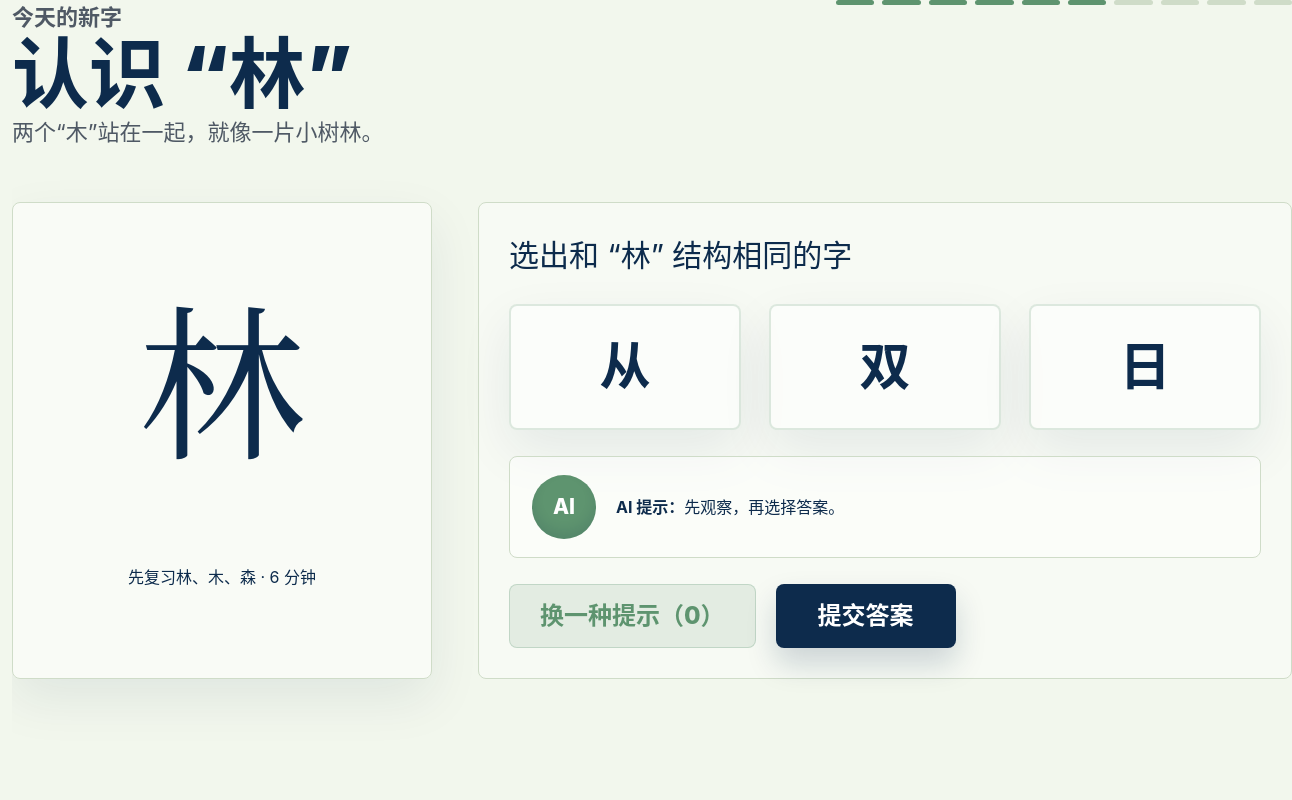
TaskPractice › shows a hint after a wrong literacy answer
This screenshot has width=1292, height=800.
Click the button "从" at (625, 367), box [509,304,741,430]
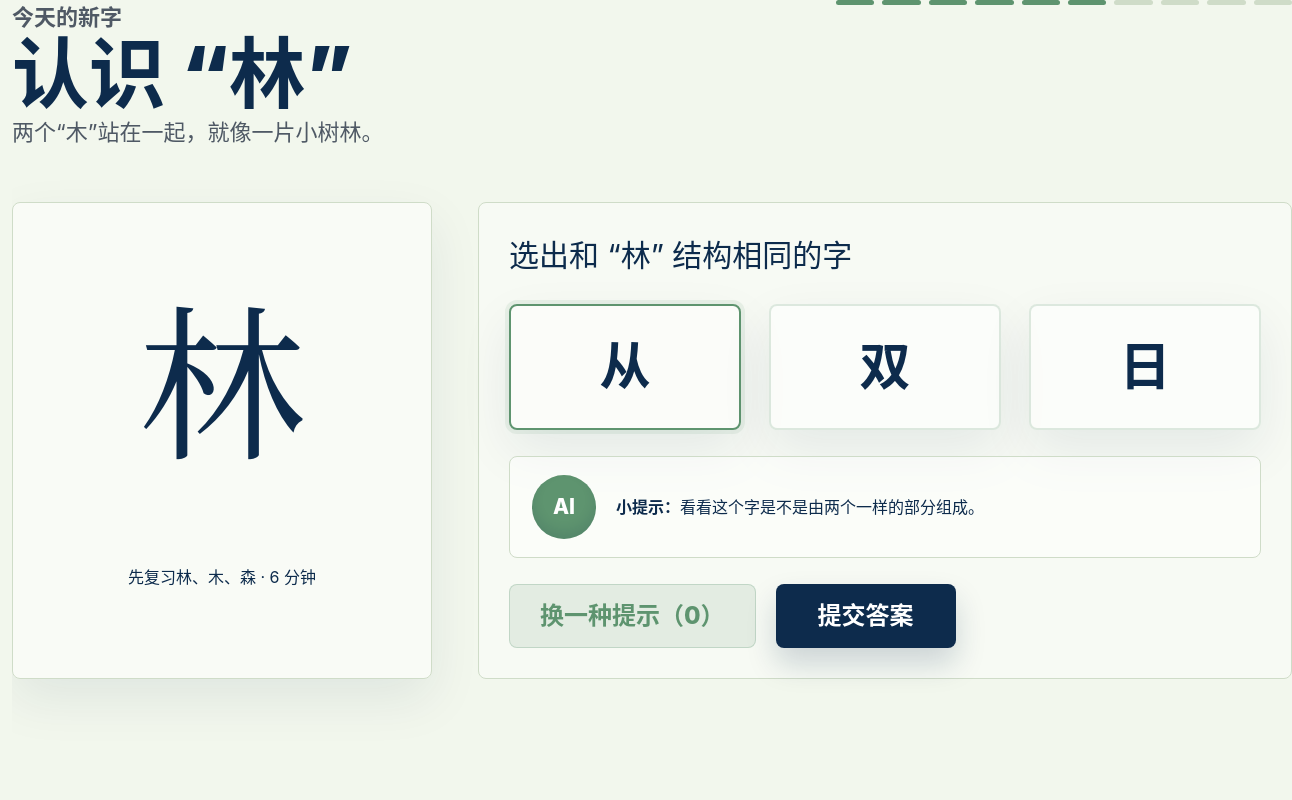
Result: the text "小提示：" is shown at [616,497,680,517]
Result: the text "小提示：看看这个字是不是由两个一样的部分组成。" is shown at [616,495,984,519]
